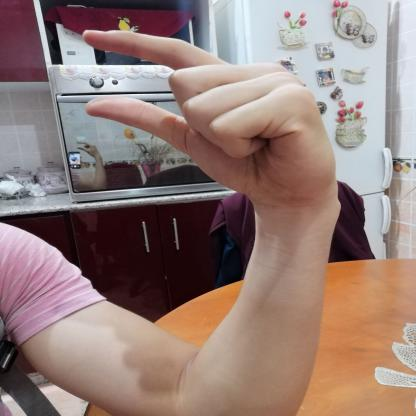DELL: (60, 17, 348, 212)
